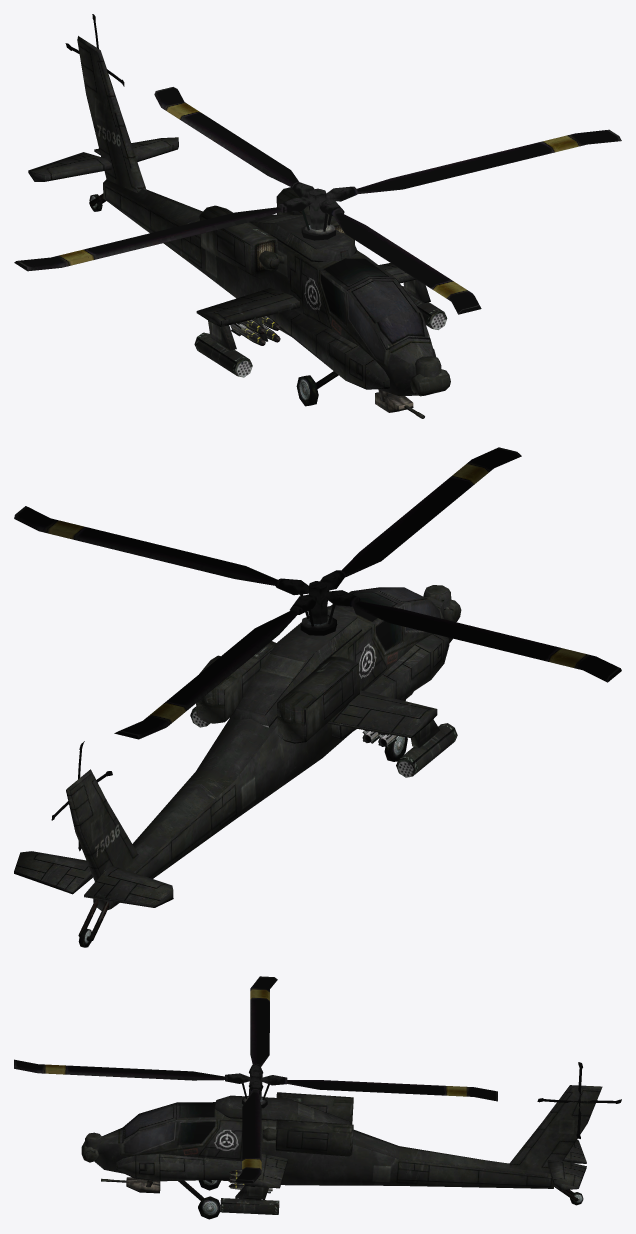
Rendered from Helicopter.obj.
3 views of the same model, one above another, from view 1: azimuth 30°, elevation 25°; view 2: azimuth 150°, elevation 25°; view 3: azimuth 270°, elevation 25° (orthographic). The views are drawn at different scales.
Visible parts, largest first — view 1: Body1, MainPropeller1, Hydracannon11, M2301, Hydracannon21; view 2: Body1, MainPropeller1, Hydracannon11; view 3: Body1, MainPropeller1, Hydracannon21, M2301, RearPropeller1.
Part boxes in pixels (box(x1,y1,x2,y2)): Body1: box(28, 36, 450, 406); MainPropeller1: box(14, 87, 621, 314); Hydracannon11: box(194, 332, 252, 377); M2301: box(375, 392, 424, 418); Hydracannon21: box(402, 286, 447, 329); Body1: box(14, 585, 461, 947); MainPropeller1: box(14, 447, 621, 739); Hydracannon11: box(396, 723, 457, 777); Body1: box(81, 1085, 602, 1219); MainPropeller1: box(14, 976, 497, 1183); Hydracannon21: box(220, 1198, 279, 1214); M2301: box(101, 1177, 160, 1193); RearPropeller1: box(537, 1062, 621, 1138).
Bounding box in the file's own units: 46.9 × 15.22 × 58.84.
